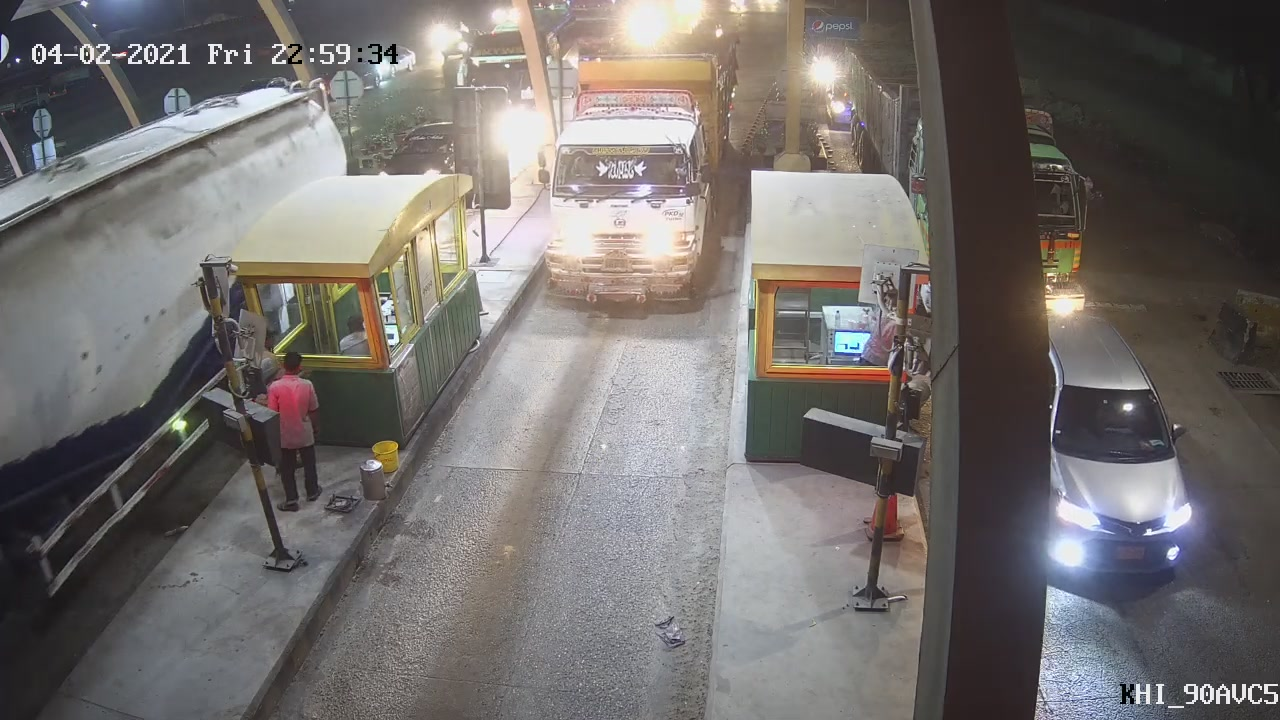F6: (538, 9, 742, 312)
